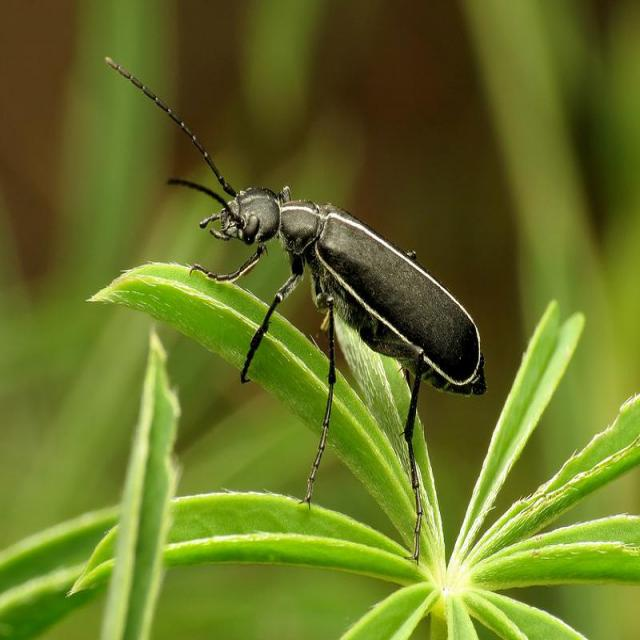BlisterBeetle-Adult-: (99, 51, 490, 465)
